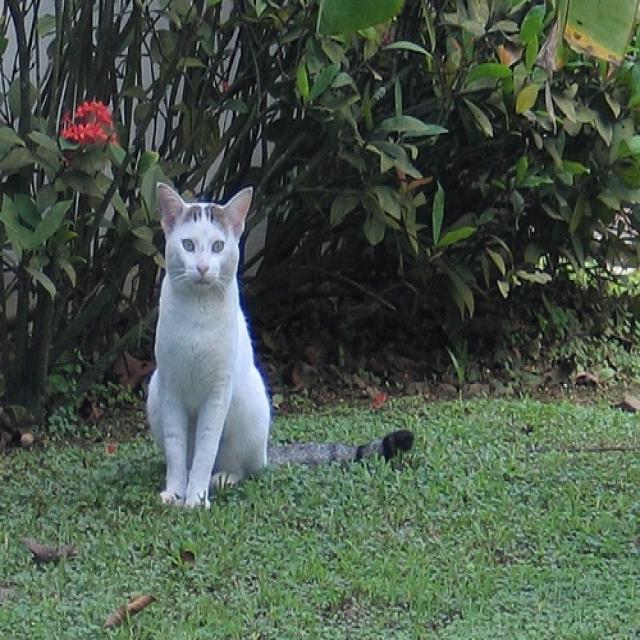cat: (147, 181, 270, 512)
